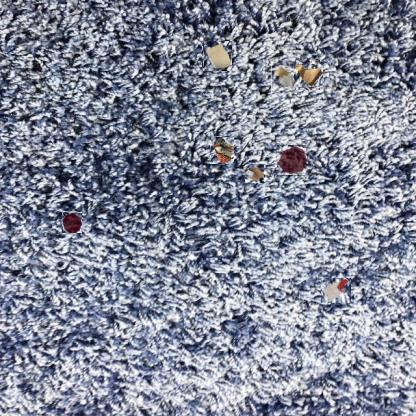dirty: (202, 42, 232, 72), (322, 276, 350, 304), (294, 62, 322, 88), (210, 136, 235, 164), (271, 64, 294, 94), (244, 163, 264, 183)
liquid: (277, 145, 307, 175), (62, 212, 82, 234)
